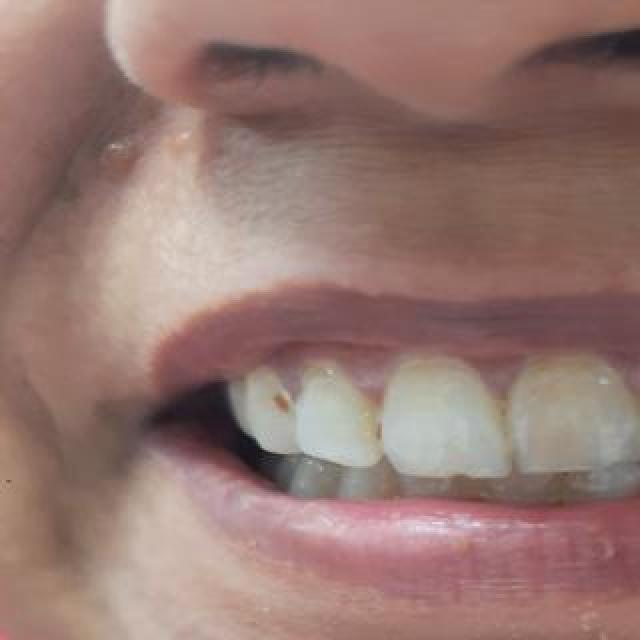cavities: (231, 367, 301, 437)
plaque: (516, 346, 638, 458), (409, 356, 511, 456), (312, 356, 396, 454)
stains: (340, 390, 406, 458), (480, 388, 540, 460)
